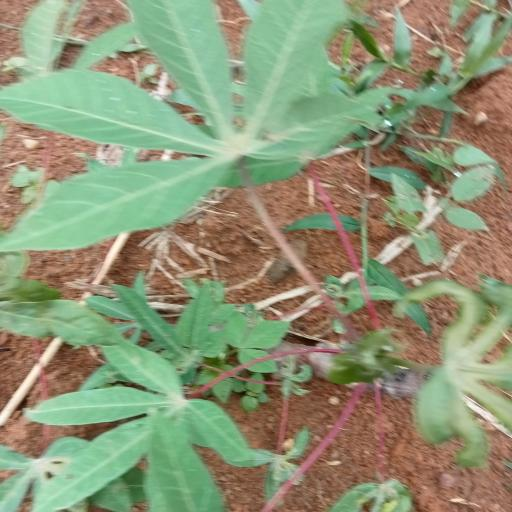Cassava_Mosaic: (3, 0, 389, 235), (31, 339, 248, 510)
